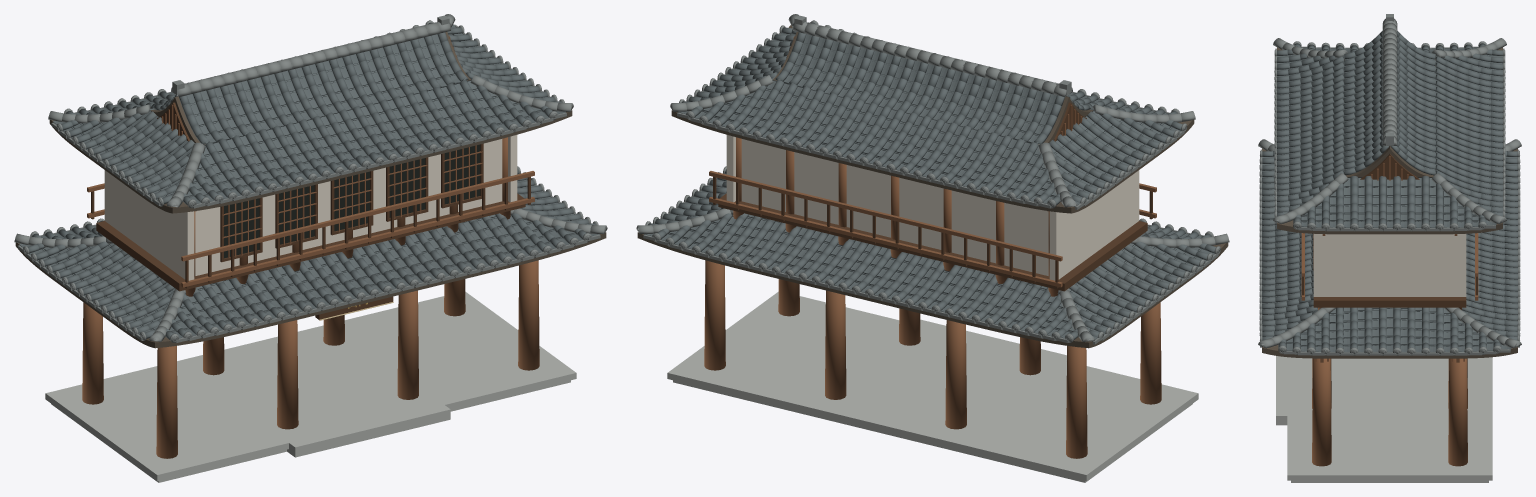
Rendered from Japan_Sanmon.fbx.
The picture shows the model from 3 angles, left to right: view 1: azimuth 30°, elevation 25°; view 2: azimuth 150°, elevation 25°; view 3: azimuth 270°, elevation 25°; orthographic projection. The views are drawn at different scales.
Visible parts, largest first — view 1: GW_Japan_Sanmon_Stone_Foundation, GW_Japan_Sanmon_Upper_Individual_Sukiwa, GW_Japan_Sanmon_Upper_Room, GW_Japan_Sanmon_Lower_Individual_Sukiwa, GW_Japan_Sanmon_Upper_Individual_Amkiwa, GW_Japan_Sanmon_Lower_Pillars, GW_Japan_Sanmon_Lower_Individual_Amkiwa, GW_Japan_Sanmon_Upper_Segmented_Ridge, GW_Japan_Sanmon_Upper_Balcony, GW_Japan_Sanmon_Lower_Individual_Wadang, GW_Japan_Sanmon_Upper_Individual_Wadang, GW_Japan_Sanmon_Upper_Roof_Shell (+2 smaller); view 2: GW_Japan_Sanmon_Stone_Foundation, GW_Japan_Sanmon_Upper_Individual_Sukiwa, GW_Japan_Sanmon_Upper_Room, GW_Japan_Sanmon_Lower_Individual_Sukiwa, GW_Japan_Sanmon_Upper_Individual_Amkiwa, GW_Japan_Sanmon_Lower_Pillars, GW_Japan_Sanmon_Lower_Individual_Amkiwa, GW_Japan_Sanmon_Upper_Segmented_Ridge, GW_Japan_Sanmon_Upper_Balcony, GW_Japan_Sanmon_Lower_Individual_Wadang, GW_Japan_Sanmon_Upper_Individual_Wadang, GW_Japan_Sanmon_Upper_Roof_Shell (+2 smaller); view 3: GW_Japan_Sanmon_Upper_Individual_Sukiwa, GW_Japan_Sanmon_Stone_Foundation, GW_Japan_Sanmon_Lower_Individual_Sukiwa, GW_Japan_Sanmon_Upper_Room, GW_Japan_Sanmon_Upper_Individual_Amkiwa, GW_Japan_Sanmon_Lower_Individual_Amkiwa, GW_Japan_Sanmon_Upper_Segmented_Ridge, GW_Japan_Sanmon_Lower_Pillars, GW_Japan_Sanmon_Upper_Roof_Shell, GW_Japan_Sanmon_Lower_Individual_Wadang, GW_Japan_Sanmon_Upper_Individual_Wadang, GW_Japan_Sanmon_Lower_Segmented_Ridge (+2 smaller).
Part boxes in pixels (x1,y1,x2,y2): GW_Japan_Sanmon_Stone_Foundation: [45, 291, 576, 482]; GW_Japan_Sanmon_Upper_Individual_Sukiwa: [61, 22, 562, 205]; GW_Japan_Sanmon_Upper_Room: [96, 135, 525, 291]; GW_Japan_Sanmon_Lower_Individual_Sukiwa: [27, 169, 595, 339]; GW_Japan_Sanmon_Upper_Individual_Amkiwa: [51, 24, 566, 208]; GW_Japan_Sanmon_Lower_Pillars: [82, 137, 539, 458]; GW_Japan_Sanmon_Lower_Individual_Amkiwa: [17, 174, 600, 342]; GW_Japan_Sanmon_Upper_Segmented_Ridge: [48, 14, 573, 207]; GW_Japan_Sanmon_Upper_Balcony: [87, 171, 534, 288]; GW_Japan_Sanmon_Lower_Individual_Wadang: [23, 166, 598, 342]; GW_Japan_Sanmon_Upper_Individual_Wadang: [56, 20, 564, 208]; GW_Japan_Sanmon_Upper_Roof_Shell: [49, 32, 572, 213]; GW_Japan_Sanmon_Stone_Foundation: [667, 291, 1198, 482]; GW_Japan_Sanmon_Upper_Individual_Sukiwa: [681, 22, 1182, 205]; GW_Japan_Sanmon_Upper_Room: [718, 135, 1147, 291]; GW_Japan_Sanmon_Lower_Individual_Sukiwa: [648, 169, 1216, 339]; GW_Japan_Sanmon_Upper_Individual_Amkiwa: [677, 33, 1184, 209]; GW_Japan_Sanmon_Lower_Pillars: [704, 137, 1161, 458]; GW_Japan_Sanmon_Lower_Individual_Amkiwa: [643, 173, 1218, 344]; GW_Japan_Sanmon_Upper_Segmented_Ridge: [670, 14, 1195, 207]; GW_Japan_Sanmon_Upper_Balcony: [709, 171, 1156, 288]; GW_Japan_Sanmon_Lower_Individual_Wadang: [645, 166, 1220, 342]; GW_Japan_Sanmon_Upper_Individual_Wadang: [679, 20, 1187, 208]; GW_Japan_Sanmon_Upper_Roof_Shell: [671, 25, 1194, 213]; GW_Japan_Sanmon_Upper_Individual_Sukiwa: [1276, 31, 1503, 225]; GW_Japan_Sanmon_Stone_Foundation: [1276, 356, 1492, 482]; GW_Japan_Sanmon_Lower_Individual_Sukiwa: [1262, 151, 1517, 349]; GW_Japan_Sanmon_Upper_Room: [1313, 233, 1466, 307]; GW_Japan_Sanmon_Upper_Individual_Amkiwa: [1274, 46, 1505, 231]; GW_Japan_Sanmon_Lower_Individual_Amkiwa: [1260, 156, 1519, 355]; GW_Japan_Sanmon_Upper_Segmented_Ridge: [1273, 14, 1506, 223]; GW_Japan_Sanmon_Lower_Pillars: [1312, 307, 1467, 466]; GW_Japan_Sanmon_Upper_Roof_Shell: [1277, 47, 1502, 234]; GW_Japan_Sanmon_Lower_Individual_Wadang: [1259, 149, 1520, 355]; GW_Japan_Sanmon_Upper_Individual_Wadang: [1274, 41, 1505, 231]; GW_Japan_Sanmon_Lower_Segmented_Ridge: [1258, 139, 1521, 348].
Size of what is drawn, in the model's own units: 11.79 by 8.43 by 6.39.
